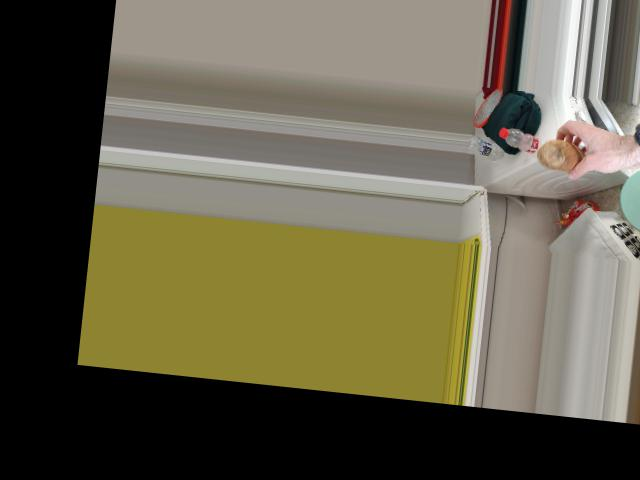sweet_potato: (537, 130, 592, 177)
